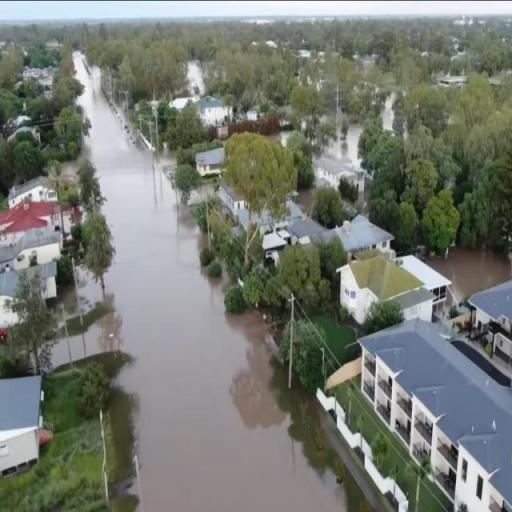flood: (52, 51, 346, 512), (430, 249, 512, 300), (329, 125, 362, 164), (187, 59, 206, 96), (80, 273, 99, 305), (385, 98, 392, 127)
house: (349, 311, 512, 505), (341, 254, 454, 315), (0, 368, 43, 491), (468, 274, 512, 366), (325, 211, 398, 256), (0, 268, 58, 324), (0, 198, 62, 233), (2, 233, 62, 268), (312, 156, 359, 192), (194, 144, 226, 180), (198, 96, 230, 128), (217, 185, 245, 214)
